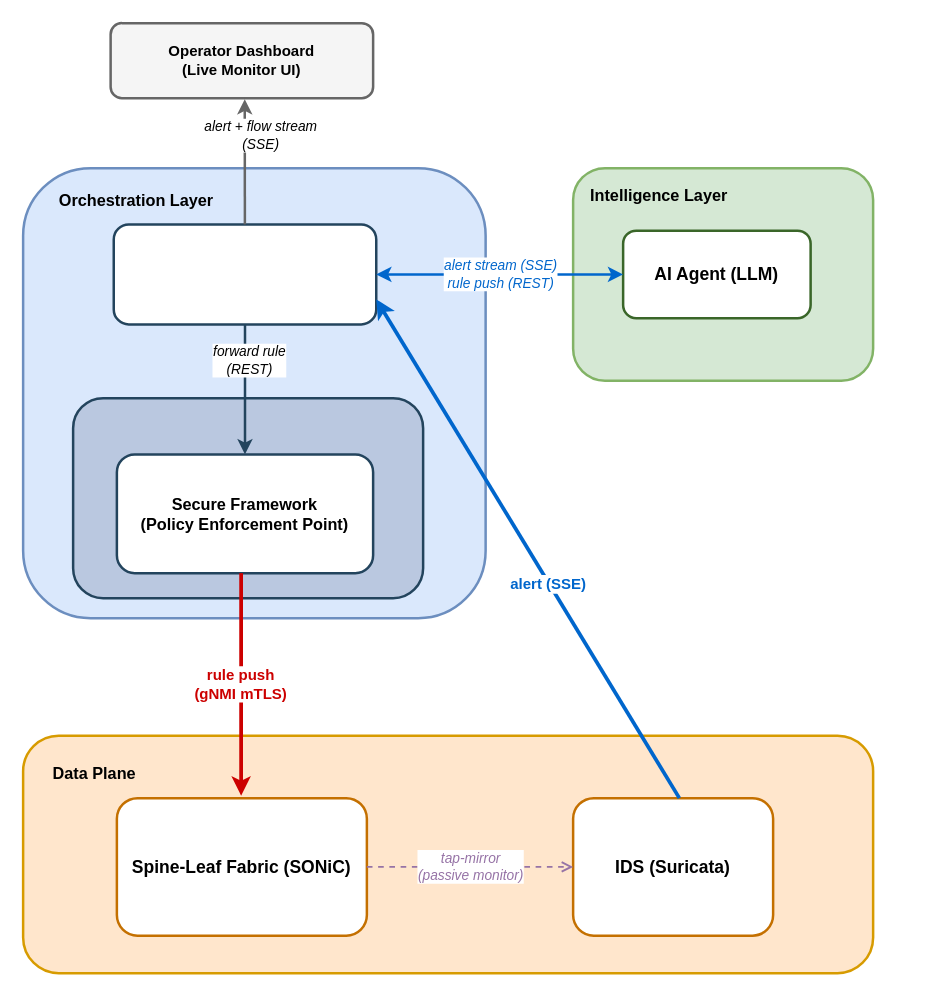
This 944x995 diagram has some shape labels left out. Here are the shapes that lost their labels. From the top down, the box of each, then its label:
(112, 222, 377, 325): ids-agent (proxy + live monitor stream)
(71, 396, 424, 599): ONAP SDNC
